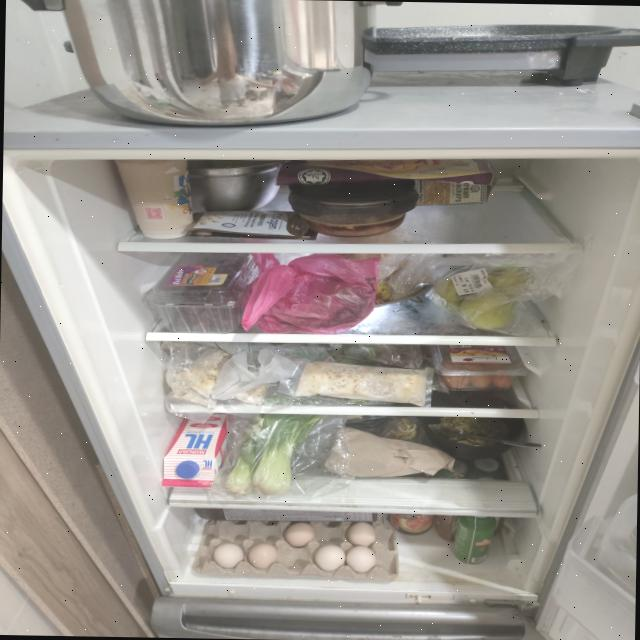apple: (430, 266, 533, 331)
egg: (192, 520, 399, 579)
grape: (174, 284, 242, 332)
pakchoy: (223, 412, 324, 496)
tempeh: (289, 361, 427, 406), (167, 348, 230, 410)
unknown_bag: (240, 252, 378, 334)
